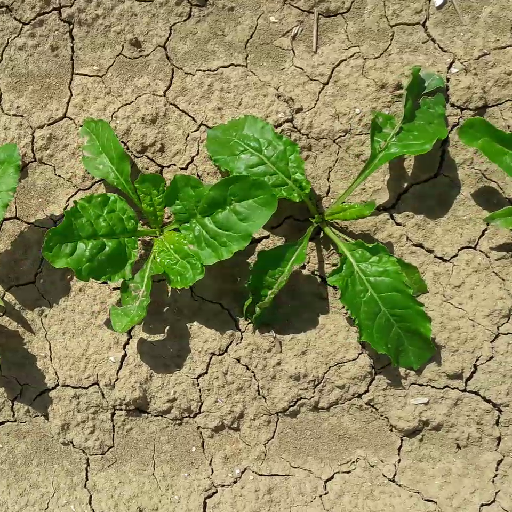sugarbeet: (197, 64, 444, 375), (31, 118, 281, 333)
